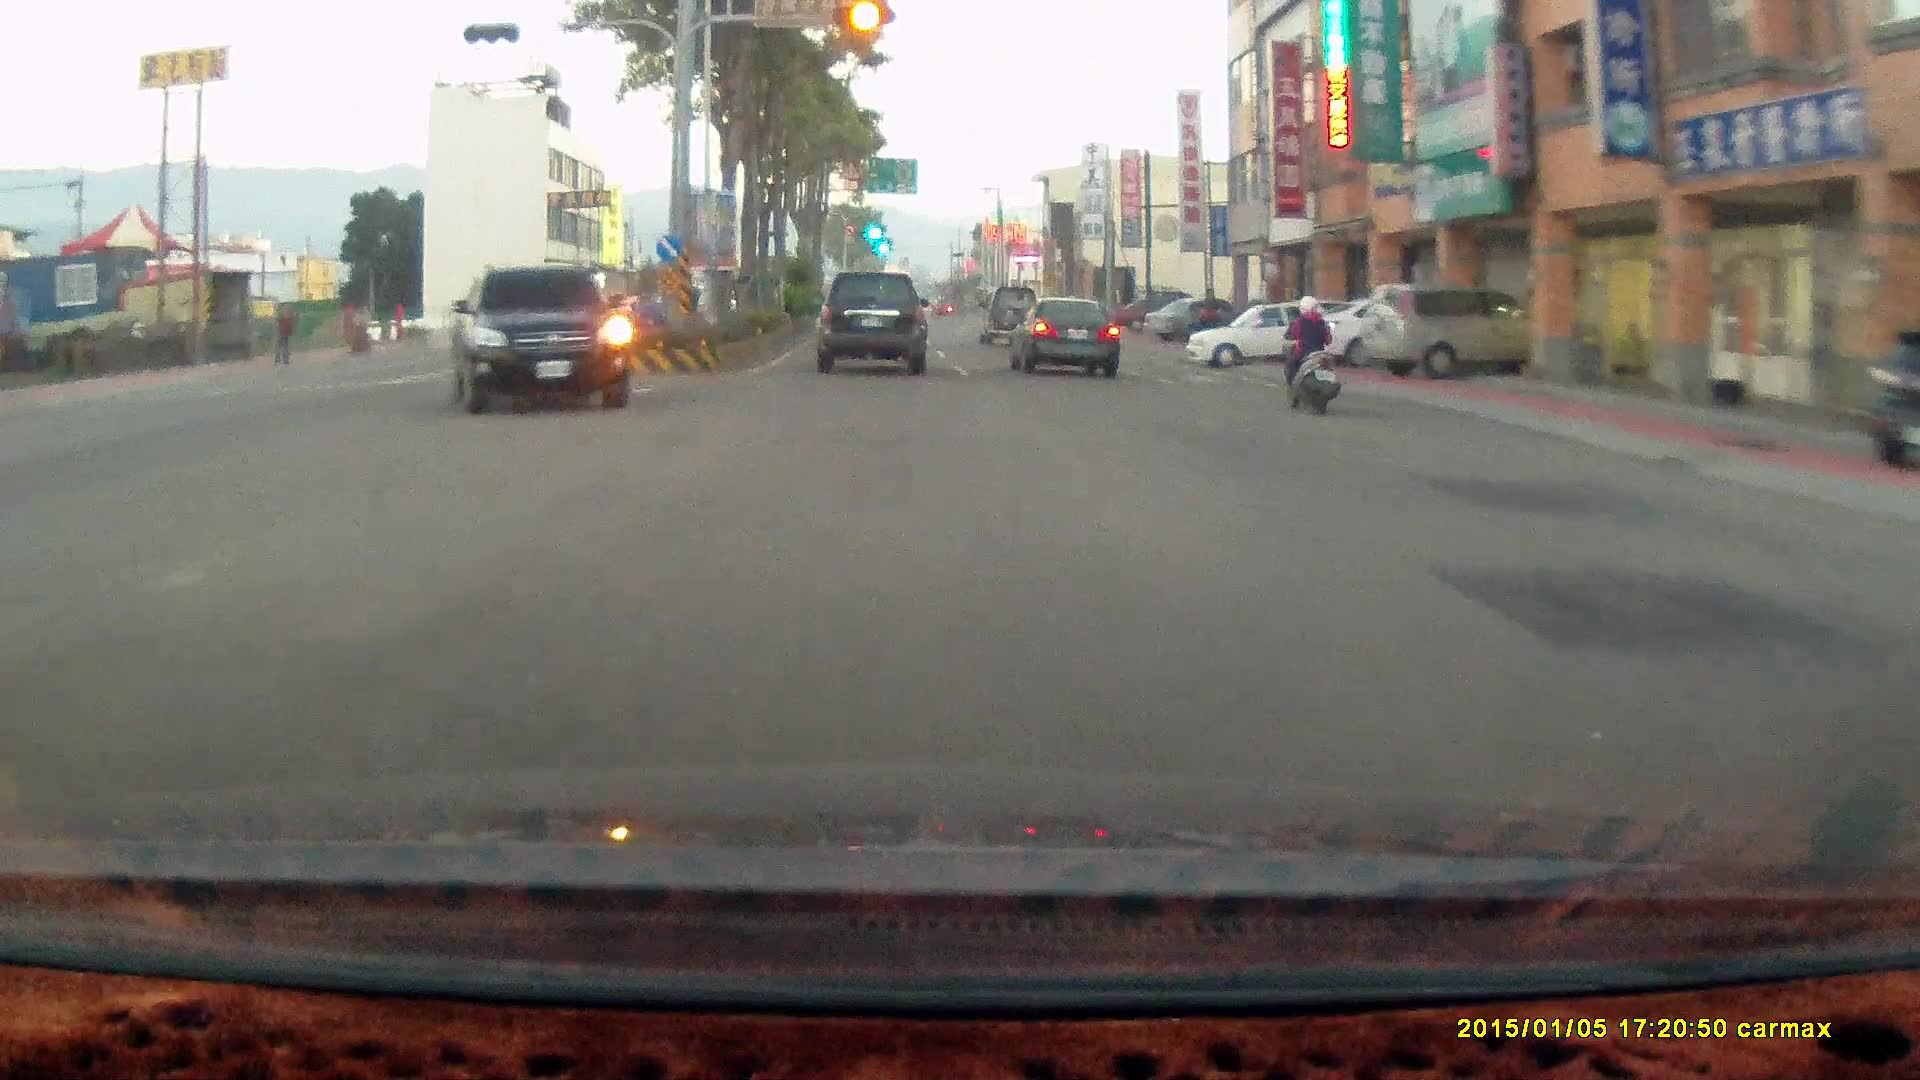pedestrian: (1198, 285, 1225, 345), (270, 303, 296, 365)
rider: (1272, 285, 1349, 418), (1277, 295, 1340, 415)
vehicle: (449, 267, 631, 414), (453, 266, 632, 415), (1357, 283, 1566, 378), (1371, 286, 1548, 385), (1303, 296, 1481, 374), (1188, 303, 1353, 376), (823, 272, 934, 378), (816, 271, 926, 376), (1187, 302, 1352, 368), (1008, 299, 1129, 379), (1005, 298, 1118, 380), (1854, 329, 1919, 469), (1145, 296, 1244, 340), (976, 283, 1044, 341), (1115, 294, 1202, 334)
